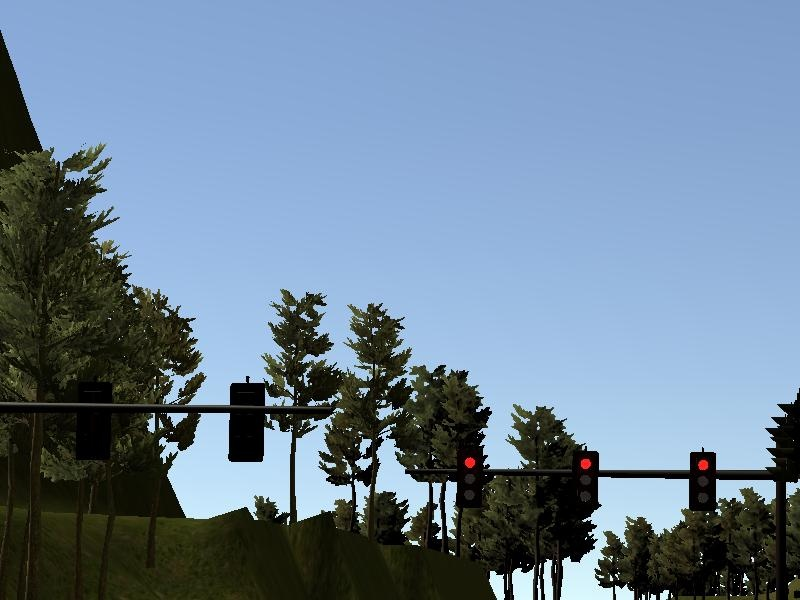red: (688, 452, 717, 512), (456, 450, 484, 510), (572, 451, 599, 511)
